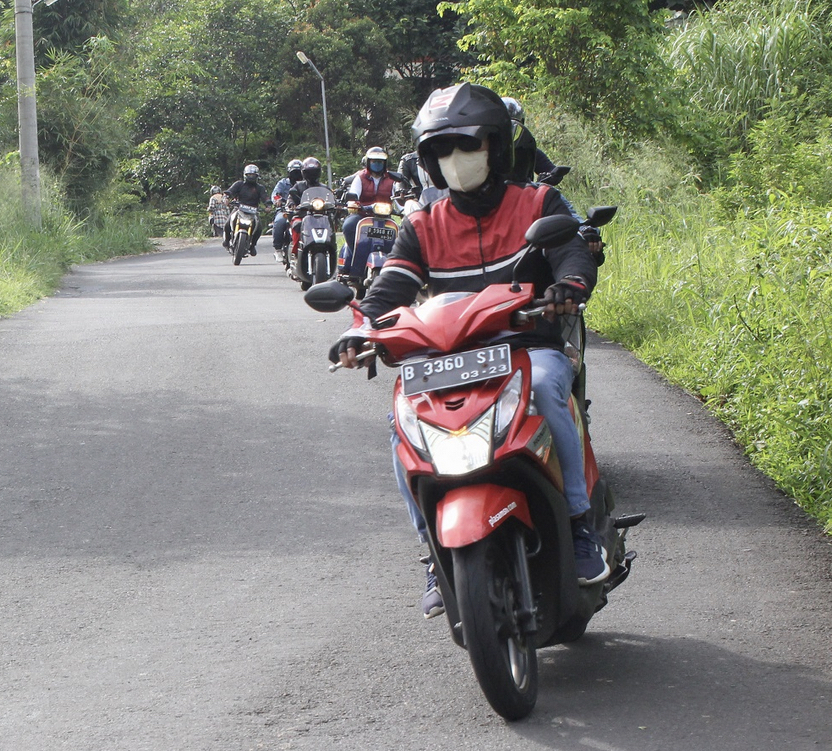Mobil: (385, 358, 519, 400)
Plat: (315, 273, 665, 721), (346, 143, 403, 278), (290, 202, 336, 288), (216, 209, 271, 267)
